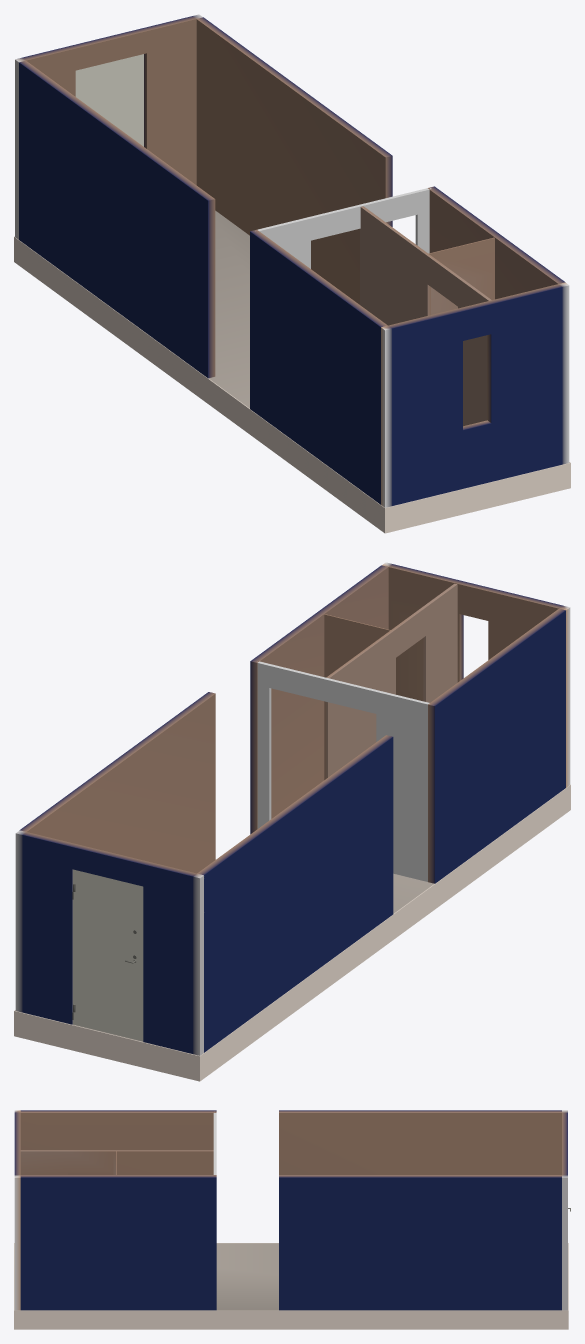
The model's file is Bod4.fbx.
The picture shows the model from 3 angles, top to bottom: view 1: azimuth 30°, elevation 25°; view 2: azimuth 150°, elevation 25°; view 3: azimuth 270°, elevation 25°; orthographic projection. The views are drawn at different scales.
Parts seen in each view (by area): view 1: WallLong2.002, WallLong2.003, WallShortSmallWindow, Floor.002, WallShortInteriorToiletDivider, WallShortDoor.002, WallShortDoorInteriorDoubleDoorOpening, Door.004; view 2: WallLong2.002, WallLong2.003, WallShortDoor.002, Floor.002, WallShortDoorInteriorDoubleDoorOpening, WallShortInteriorToiletDivider, Door.004, WallShortSmallWindow; view 3: WallLong2.003, WallLong2.002, Floor.002, WallShortInteriorToiletDivider, WallShortSmallWindow, WallShortDoor.002.
Part boxes in pixels (x1,y1,x2,y2): WallLong2.002: (19,60,387,504); WallLong2.003: (196,17,565,304); WallShortSmallWindow: (381,282,569,507); Floor.002: (14,210,570,533); WallShortInteriorToiletDivider: (360,206,494,426); WallShortDoor.002: (15,14,202,239); WallShortDoorInteriorDoubleDoorOpening: (257,188,431,268); Door.004: (75,54,143,146); WallLong2.002: (197,608,565,1052); WallLong2.003: (19,565,388,873); WallShortDoor.002: (15,830,203,1055); Floor.002: (14,784,570,1081); WallShortDoorInteriorDoubleDoorOpening: (257,661,429,881); WallShortInteriorToiletDivider: (324,583,457,779); Door.004: (72,869,143,1041); WallShortSmallWindow: (382,562,570,787); WallLong2.003: (20,1175,561,1310); WallLong2.002: (20,1110,561,1174); Floor.002: (14,1243,568,1329); WallShortInteriorToiletDivider: (20,1150,213,1174); WallShortSmallWindow: (14,1110,20,1310); WallShortDoor.002: (562,1110,567,1310).
Bounding box in the file's own units: 262 × 273 × 909.
